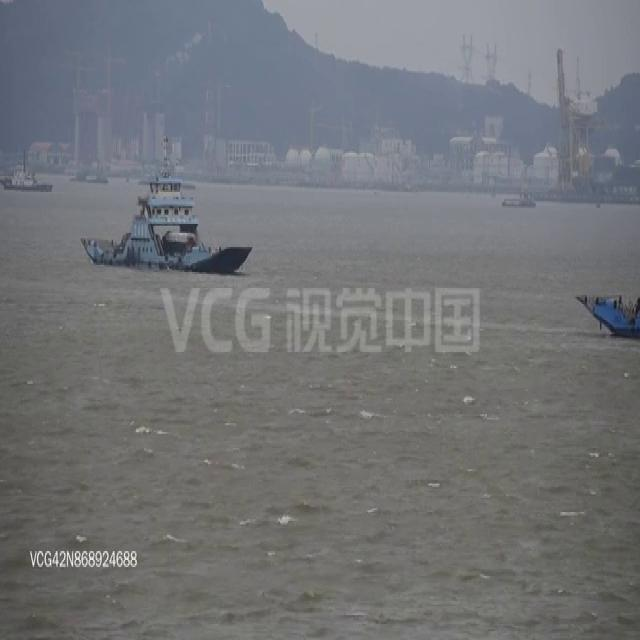cargoship: (62, 149, 237, 304), (9, 149, 66, 201), (498, 185, 542, 219)
